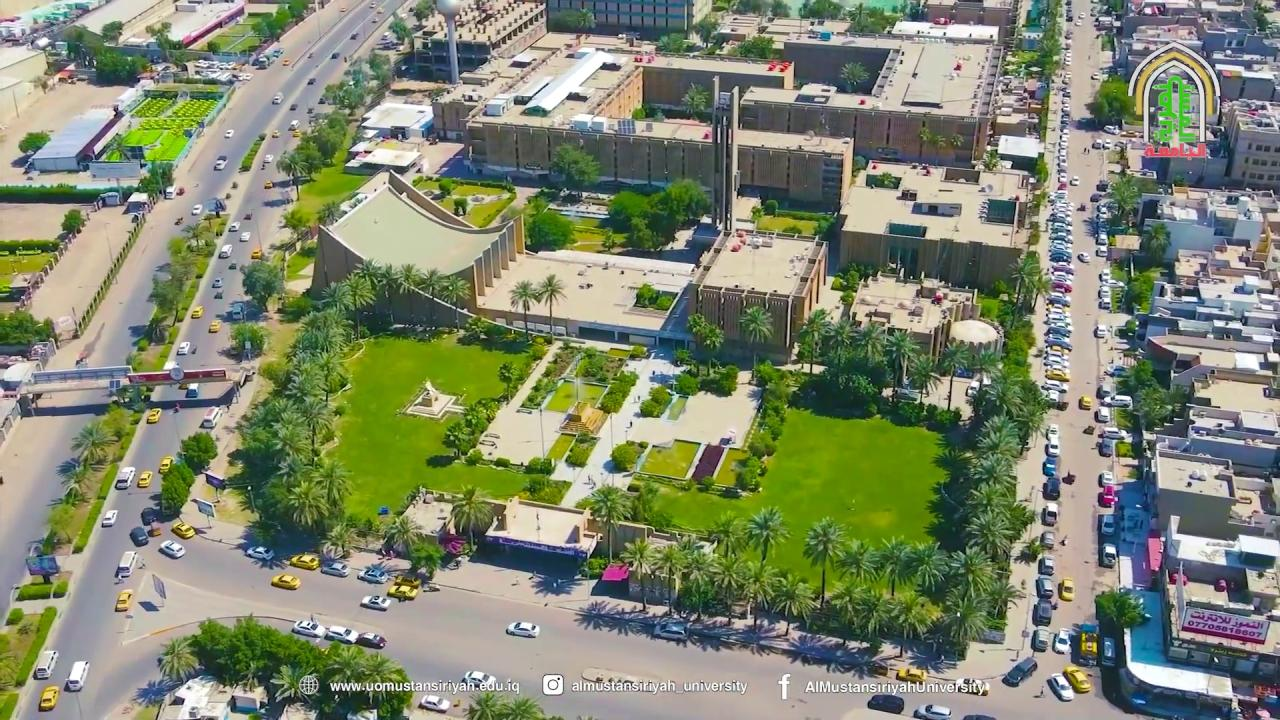car: (1002, 657, 1038, 687), (458, 671, 496, 692), (1062, 666, 1091, 693), (867, 694, 904, 715), (65, 660, 89, 692), (1047, 673, 1074, 701), (33, 650, 58, 679), (653, 622, 689, 642), (291, 618, 326, 638), (324, 625, 358, 645), (386, 582, 418, 601), (912, 704, 951, 719), (506, 621, 540, 638), (356, 566, 388, 584), (418, 694, 449, 712), (116, 551, 137, 577), (289, 552, 319, 570), (38, 686, 59, 711), (271, 573, 300, 590), (360, 594, 390, 610), (895, 668, 925, 684), (246, 546, 274, 563), (321, 560, 349, 577), (159, 540, 185, 558), (357, 632, 386, 648), (114, 589, 133, 612), (1030, 629, 1049, 652), (171, 521, 195, 539), (1100, 543, 1117, 568), (201, 406, 221, 427), (129, 526, 149, 547), (1040, 503, 1058, 526), (1053, 631, 1071, 654), (1058, 578, 1074, 601), (1037, 555, 1055, 575), (1100, 515, 1115, 535), (101, 510, 118, 527), (140, 508, 156, 526), (1097, 472, 1115, 487), (1040, 530, 1055, 548), (137, 470, 152, 487), (158, 457, 173, 474), (146, 408, 162, 423), (212, 155, 226, 170), (218, 244, 232, 259), (33, 666, 50, 678), (1189, 469, 1207, 480), (177, 341, 190, 355), (1094, 325, 1108, 338), (208, 318, 221, 332), (962, 714, 996, 719), (750, 235, 762, 249), (191, 305, 203, 318), (185, 386, 198, 398), (271, 93, 283, 104), (250, 249, 262, 260), (426, 134, 438, 145), (211, 277, 222, 288), (191, 203, 201, 215), (239, 232, 250, 241), (224, 129, 234, 138), (229, 222, 239, 231), (243, 211, 253, 220), (263, 180, 273, 188), (307, 78, 315, 85), (331, 51, 338, 59)
fountain: (644, 437, 698, 487), (539, 200, 618, 233), (542, 379, 610, 408), (716, 444, 750, 498), (541, 425, 581, 462), (578, 343, 636, 362), (665, 394, 690, 423)
tree: (228, 306, 357, 554), (152, 612, 414, 719), (318, 255, 472, 338), (961, 482, 1033, 563), (574, 483, 632, 563), (802, 515, 848, 608), (381, 512, 443, 580), (997, 377, 1049, 451), (886, 589, 941, 657), (941, 586, 988, 661), (447, 482, 494, 552), (736, 558, 779, 632), (706, 551, 749, 624), (521, 194, 574, 253), (769, 572, 816, 636), (618, 537, 658, 611), (651, 542, 692, 614), (828, 576, 869, 646), (738, 303, 773, 384), (548, 141, 600, 195), (743, 505, 792, 562), (871, 534, 916, 596), (292, 395, 333, 461), (337, 272, 376, 340), (1088, 76, 1137, 130), (1006, 250, 1042, 323), (282, 478, 330, 531), (685, 312, 724, 376), (980, 567, 1025, 622), (606, 189, 650, 245), (69, 419, 118, 469), (904, 539, 949, 593), (947, 545, 993, 596), (883, 327, 918, 394), (938, 338, 970, 411), (309, 456, 353, 509), (1092, 588, 1146, 631), (629, 480, 672, 534), (796, 306, 830, 374), (534, 273, 567, 343), (241, 259, 284, 311), (663, 178, 709, 226), (834, 538, 880, 585), (308, 350, 347, 405), (156, 634, 200, 682), (269, 663, 318, 704), (706, 509, 747, 558), (508, 279, 540, 340), (824, 317, 856, 375), (159, 462, 194, 515), (438, 275, 471, 331), (55, 456, 92, 505), (381, 512, 421, 557), (395, 262, 424, 324), (1106, 170, 1141, 221), (275, 148, 309, 200), (0, 309, 47, 346), (279, 204, 315, 252), (179, 430, 217, 474), (908, 352, 942, 401), (1121, 270, 1156, 316), (228, 321, 268, 361), (419, 267, 446, 326), (1035, 24, 1062, 82), (375, 262, 399, 323), (853, 319, 884, 366), (729, 452, 764, 493), (408, 540, 443, 580), (1140, 220, 1170, 266), (321, 521, 357, 558), (443, 420, 475, 460), (46, 502, 76, 544), (144, 19, 172, 62), (101, 402, 131, 441), (680, 82, 709, 120), (918, 126, 946, 165), (497, 360, 522, 403), (838, 60, 869, 93), (639, 385, 670, 417), (736, 32, 774, 58), (564, 6, 596, 35), (609, 442, 638, 472), (17, 130, 51, 155), (389, 16, 413, 51), (182, 220, 209, 251), (61, 209, 83, 235), (635, 282, 656, 308), (748, 204, 765, 233), (599, 226, 617, 252), (980, 149, 1000, 171), (1033, 158, 1049, 185), (451, 195, 468, 216)
